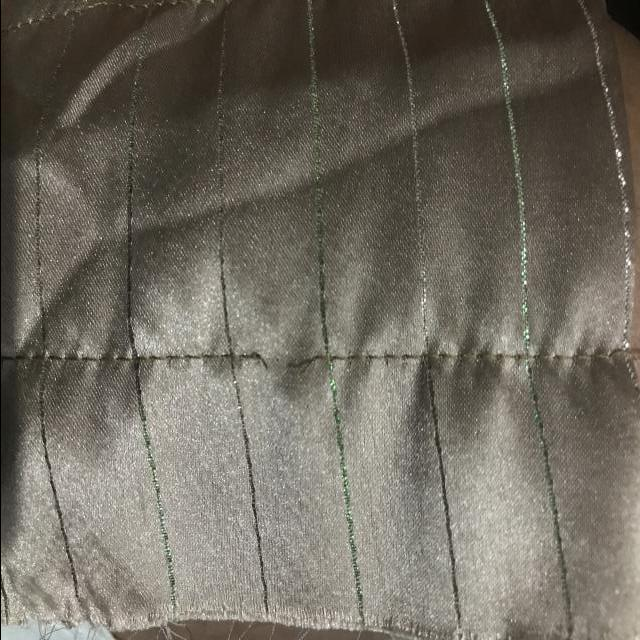Broken: (230, 327, 327, 398)
